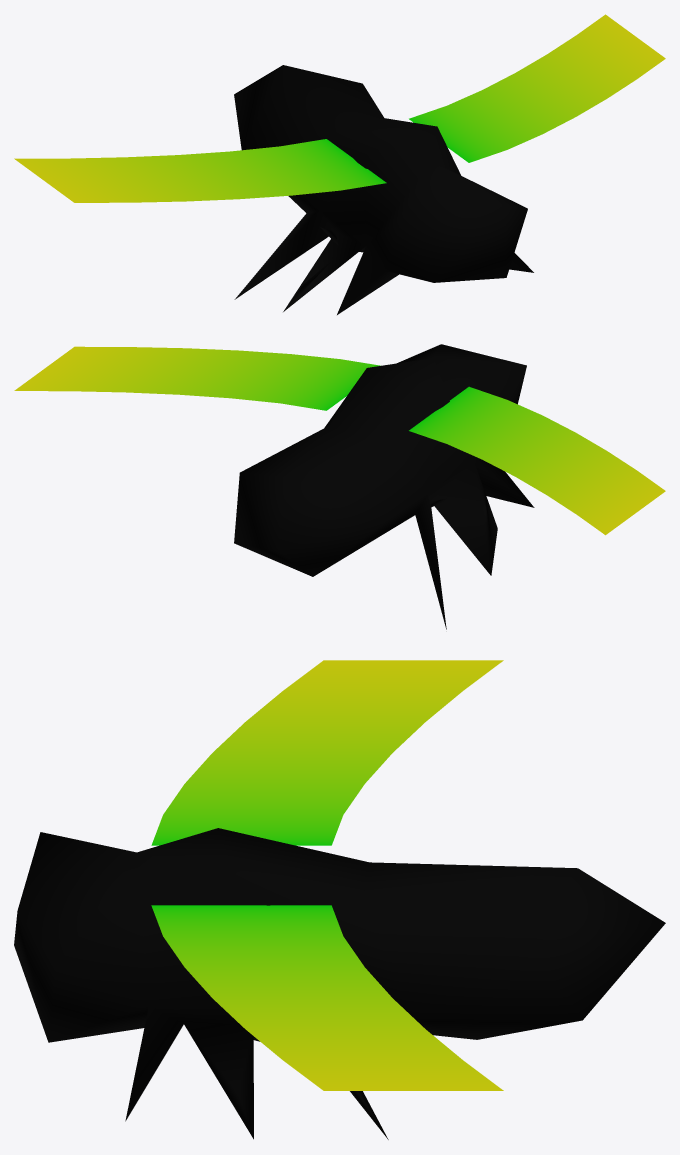
File: fly.glb
3 views of the same model, one above another, from view 1: azimuth 30°, elevation 25°; view 2: azimuth 150°, elevation 25°; view 3: azimuth 270°, elevation 25° (orthographic). The views are drawn at different scales.
Parts seen in each view (by area): view 1: lod0; view 2: lod0; view 3: lod0.
Boxes of the visible parts, box(x1,y1,x2,y2) form: lod0: box(14, 14, 665, 314); lod0: box(14, 344, 665, 629); lod0: box(14, 660, 665, 1139).
Size of what is drawn, in the model's own units: 0.013 by 0.00387 by 0.00831.
